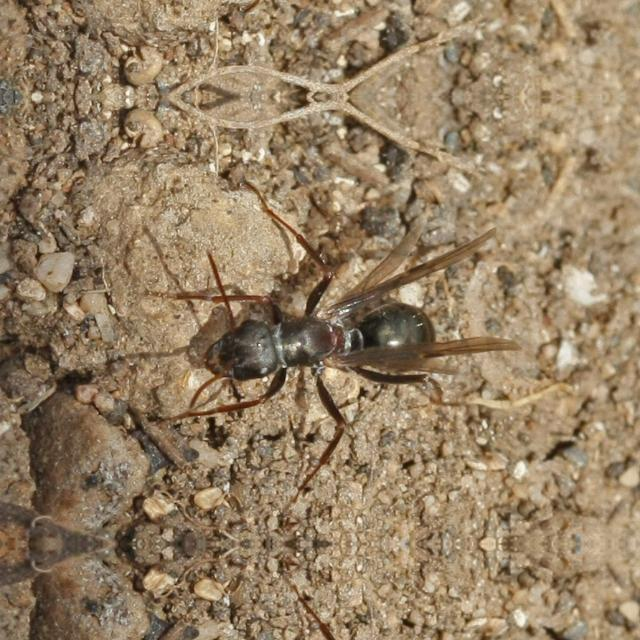Cataglyphis: (152, 247, 506, 435)
